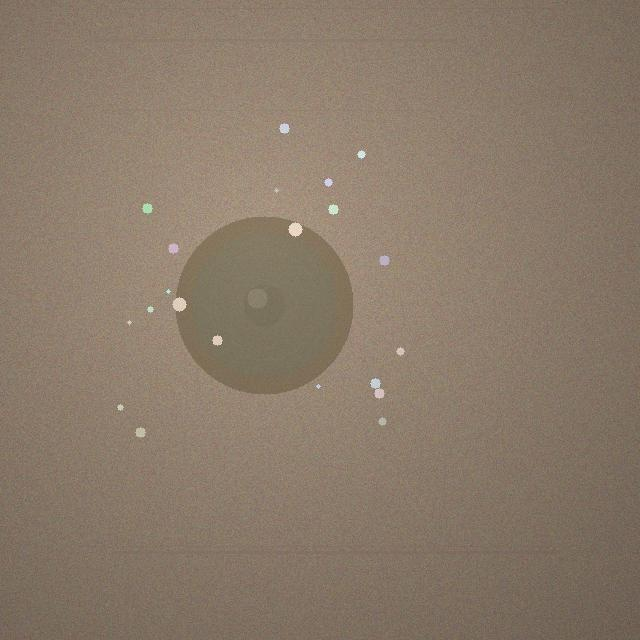overburn: (175, 216, 353, 394)
